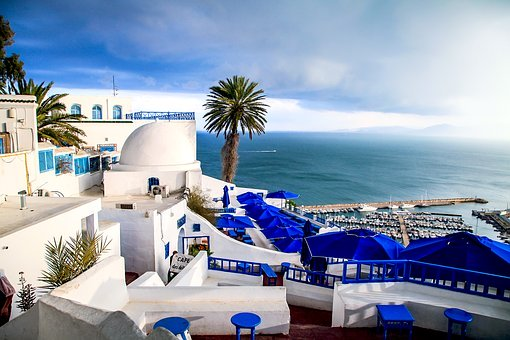city: (16, 116, 493, 340)
sea: (219, 130, 510, 234)
sky: (36, 12, 510, 126)
